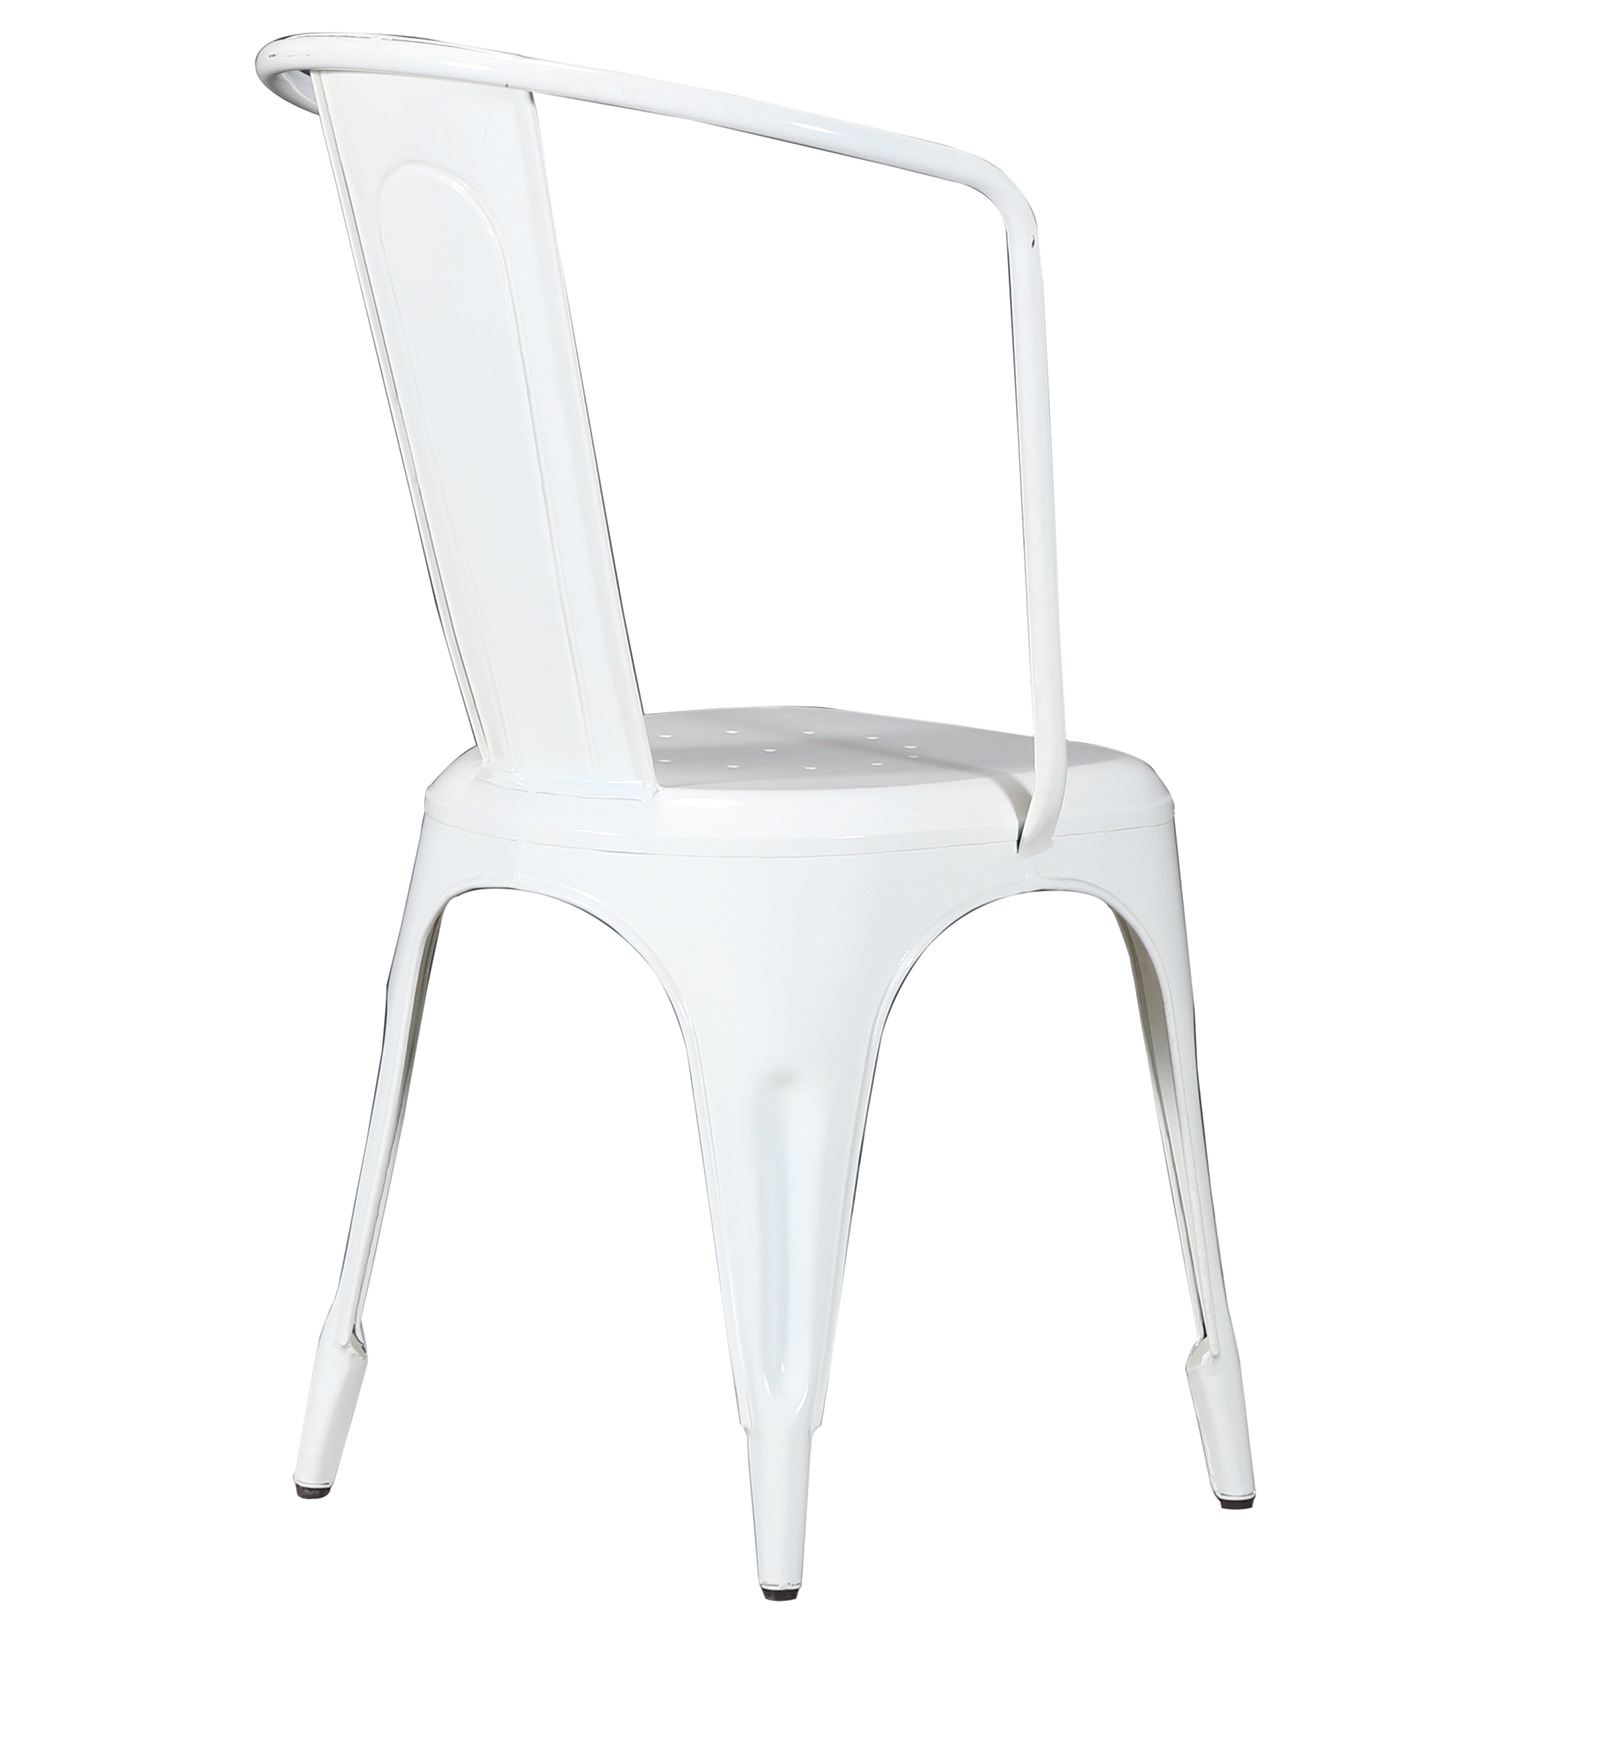Ekati Metal Chair in White Color by Bohemiana: (205, 15, 1312, 1650)
